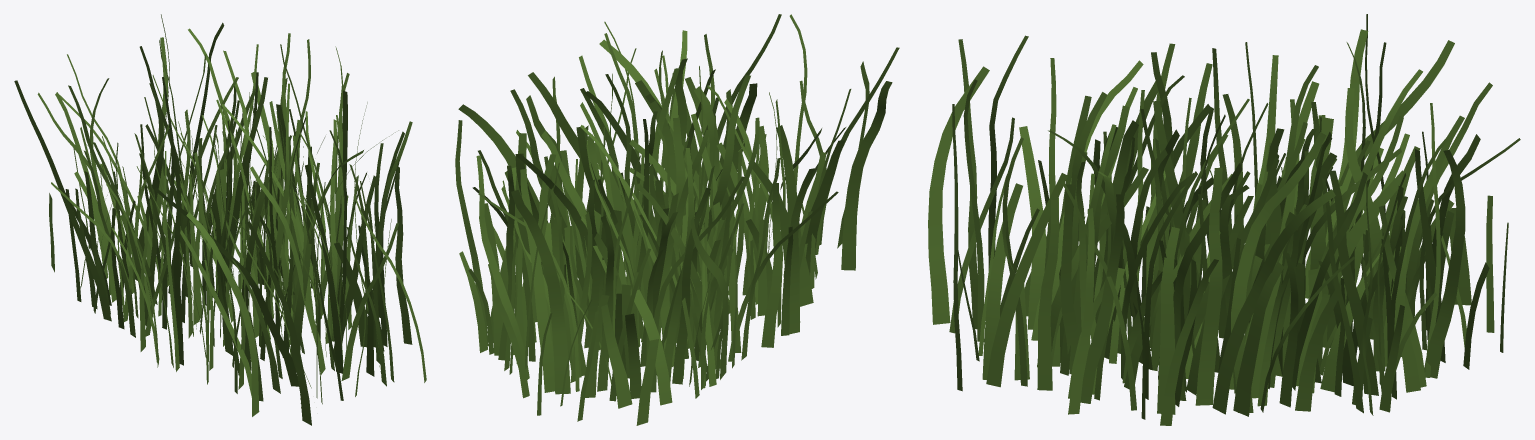
Rendered from plant_swamp_kelp_short_A.fbx.
The picture shows the model from 3 angles, left to right: view 1: azimuth 30°, elevation 25°; view 2: azimuth 150°, elevation 25°; view 3: azimuth 270°, elevation 25°; orthographic projection. The views are drawn at different scales.
Parts seen in each view (by area): view 1: plant_swamp_kelp_short_A; view 2: plant_swamp_kelp_short_A; view 3: plant_swamp_kelp_short_A.
Boxes of the visible parts, x1=… form: plant_swamp_kelp_short_A: x1=14, y1=14, x2=426, y2=425; plant_swamp_kelp_short_A: x1=455, y1=14, x2=899, y2=425; plant_swamp_kelp_short_A: x1=928, y1=14, x2=1520, y2=425.
Bounding box in the file's own units: 306 × 216 × 410.
